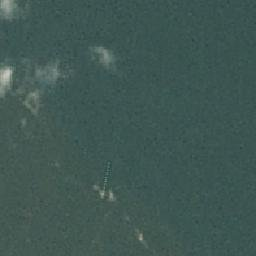cloud: (1, 62, 60, 104), (88, 43, 113, 67)
